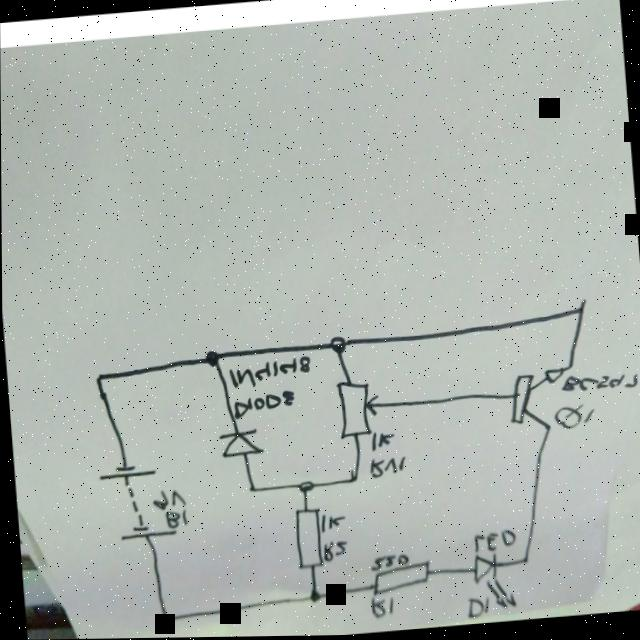diode: (468, 551, 515, 614), (215, 426, 263, 460)
junction: (327, 334, 346, 356), (202, 348, 219, 367), (296, 477, 313, 494), (571, 303, 585, 320), (306, 588, 319, 606), (90, 371, 103, 387), (541, 423, 551, 436), (159, 611, 168, 624), (246, 482, 255, 495), (348, 472, 357, 485), (519, 555, 528, 568), (564, 361, 573, 374)
resistor: (333, 377, 383, 442), (367, 559, 430, 598), (290, 505, 323, 572)
source: (94, 460, 155, 482), (116, 522, 175, 541)
text: (225, 352, 311, 391), (559, 370, 638, 396), (230, 388, 294, 420), (551, 401, 595, 433), (469, 527, 516, 555), (366, 454, 405, 480), (367, 550, 408, 573), (149, 489, 184, 511), (366, 593, 393, 621), (463, 595, 489, 621), (320, 538, 347, 563), (367, 429, 394, 452), (161, 506, 186, 530), (318, 512, 345, 534)
transistor: (502, 367, 566, 428)
